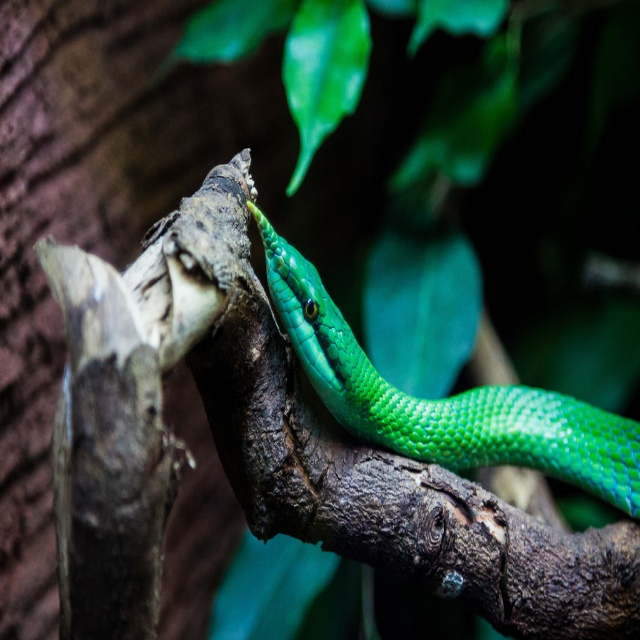Snake: (242, 196, 640, 518)
